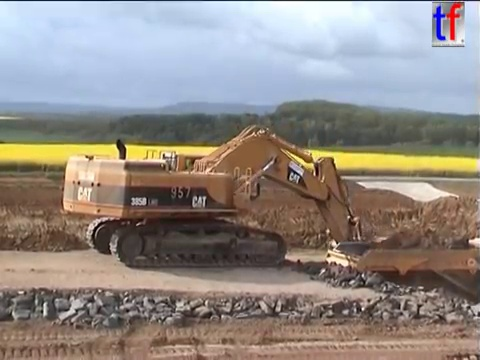excavator: (59, 121, 378, 300)
truck: (320, 234, 480, 320)
